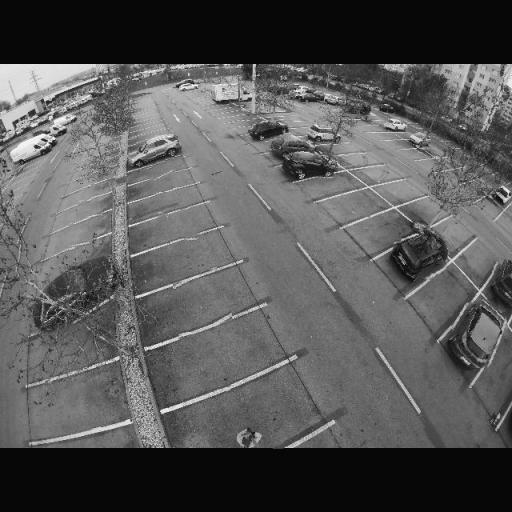busy: (22, 259, 125, 330), (450, 299, 512, 370), (391, 227, 451, 280), (283, 146, 338, 178), (128, 135, 182, 166), (270, 134, 316, 160), (492, 257, 512, 312), (248, 119, 290, 143), (308, 123, 343, 144), (382, 119, 408, 132), (408, 132, 430, 146), (177, 80, 201, 91)
free: (204, 400, 286, 448), (175, 333, 235, 390), (46, 379, 100, 434), (174, 277, 232, 328), (52, 328, 94, 366), (162, 245, 217, 273), (154, 214, 201, 240), (439, 218, 465, 254), (427, 282, 463, 306), (59, 248, 90, 274), (411, 196, 434, 228), (66, 224, 94, 250), (338, 196, 374, 216), (366, 222, 400, 242), (156, 192, 190, 210), (467, 250, 496, 268), (147, 162, 175, 180), (77, 201, 104, 218), (320, 177, 349, 191), (382, 186, 410, 200), (152, 176, 178, 190), (236, 112, 252, 132), (362, 170, 388, 182), (82, 185, 100, 201), (346, 153, 360, 167)
